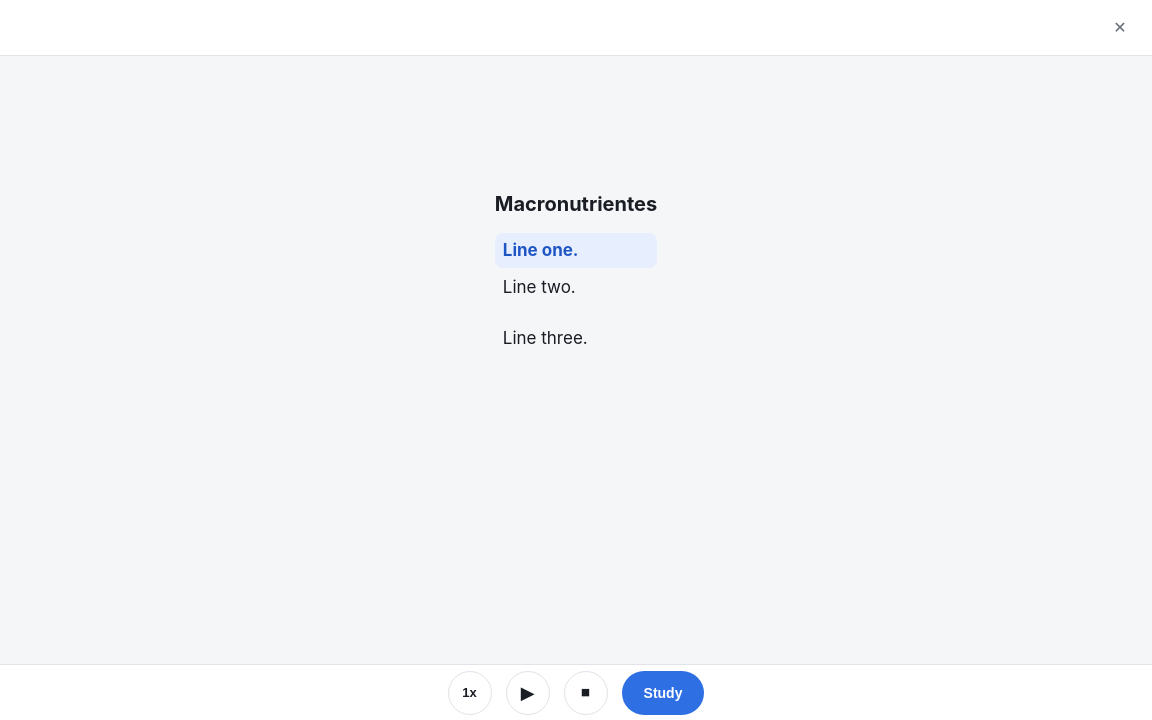
Test: LearningTopicPage › Play switches to a pause icon
The width and height of the screenshot is (1152, 720).
Click the button with class "reader-control-btn" showing "▶": point(528, 692) [506, 670, 550, 714]
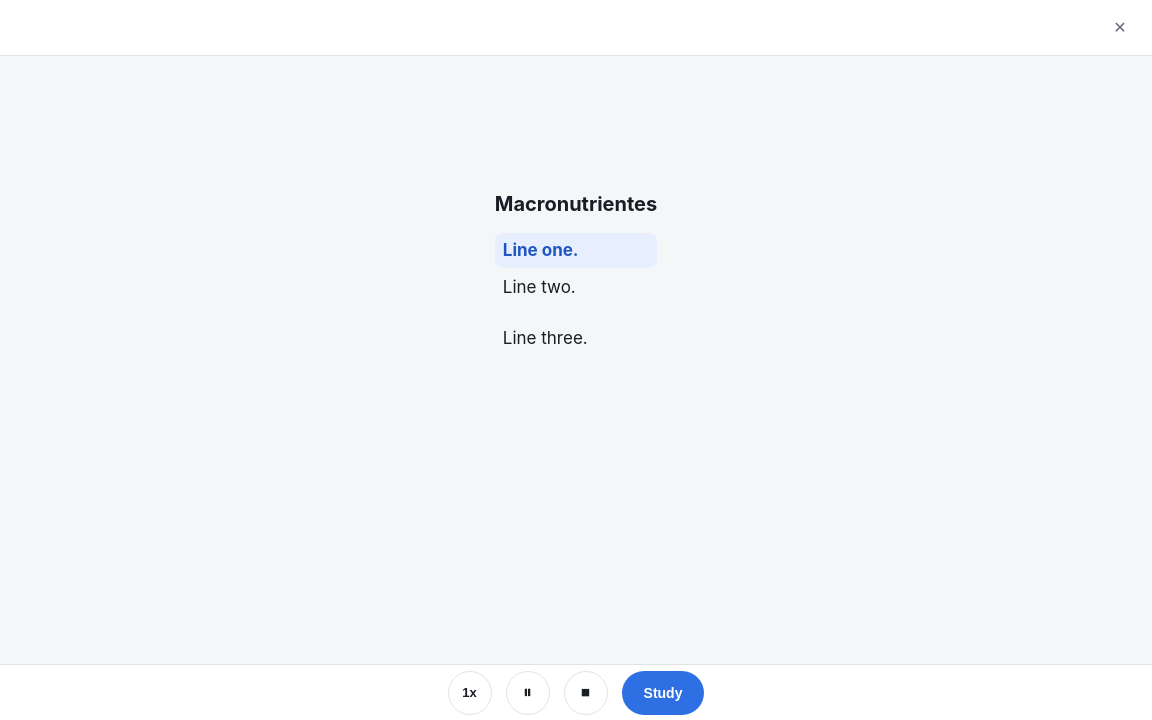
expect the button with class "reader-control-btn" reads "⏸": met, box [506, 670, 550, 714]
